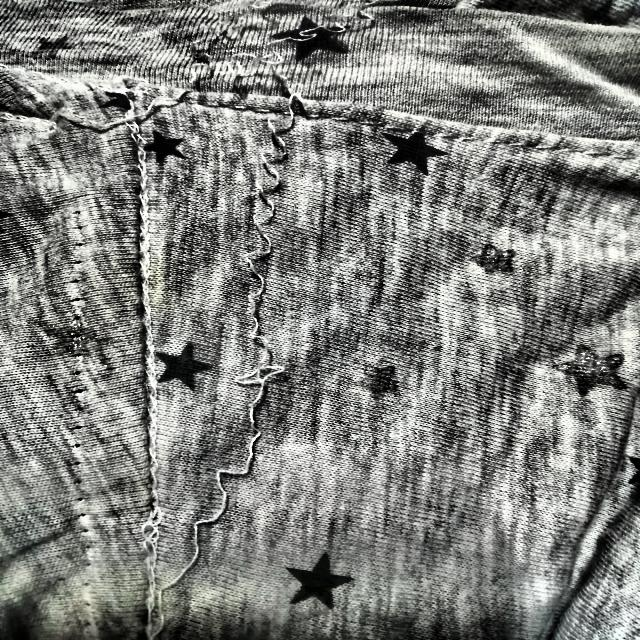Stitch: (219, 71, 322, 463), (58, 144, 107, 475), (92, 500, 232, 602), (172, 24, 295, 69)
